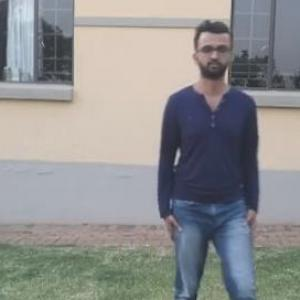follow: (162, 22, 265, 299)
